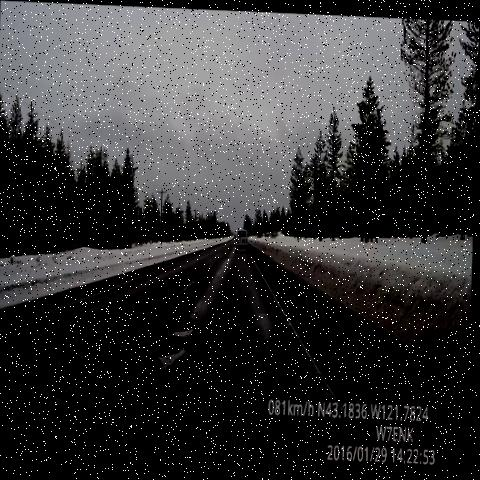pothole: (104, 394, 157, 441), (149, 333, 193, 380), (168, 312, 205, 345)
